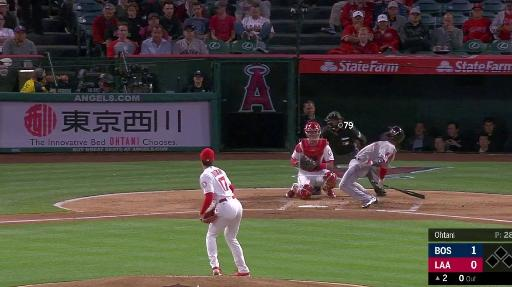pitcher: (198, 147, 254, 281)
